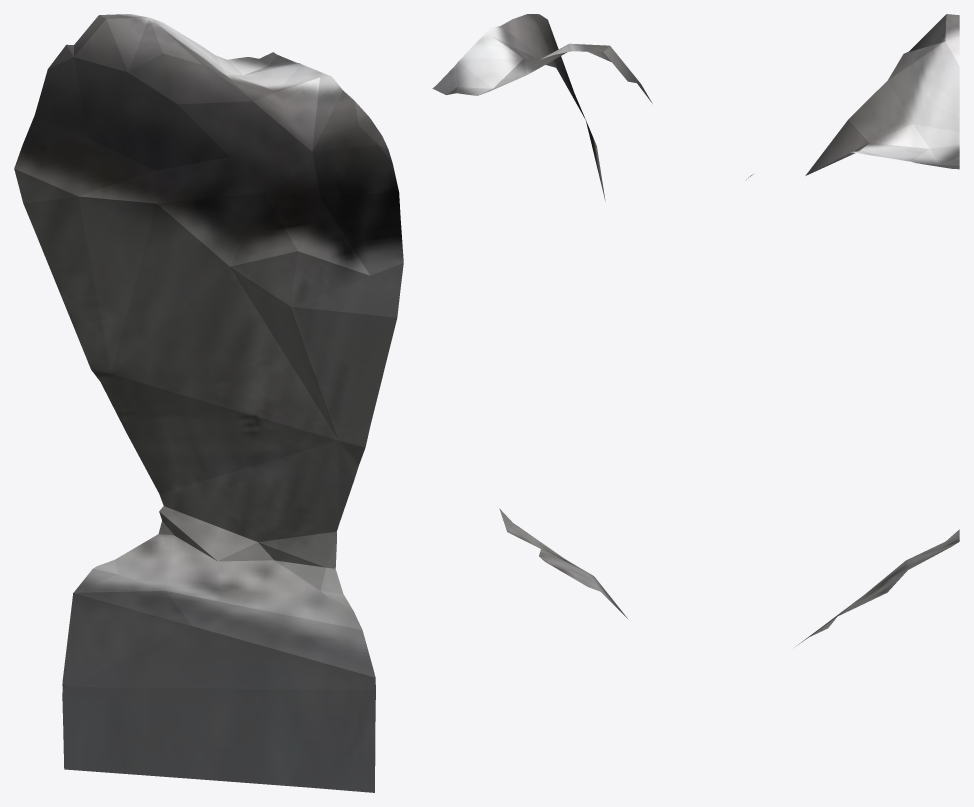
3 views of the same model, side by side, from view 1: azimuth 30°, elevation 25°; view 2: azimuth 150°, elevation 25°; view 3: azimuth 270°, elevation 25° (orthographic). The views are drawn at different scales.
Bounding box in the file's own units: 0.1758 × 0.4846 × 0.1535.
1 material, 1 textured.
